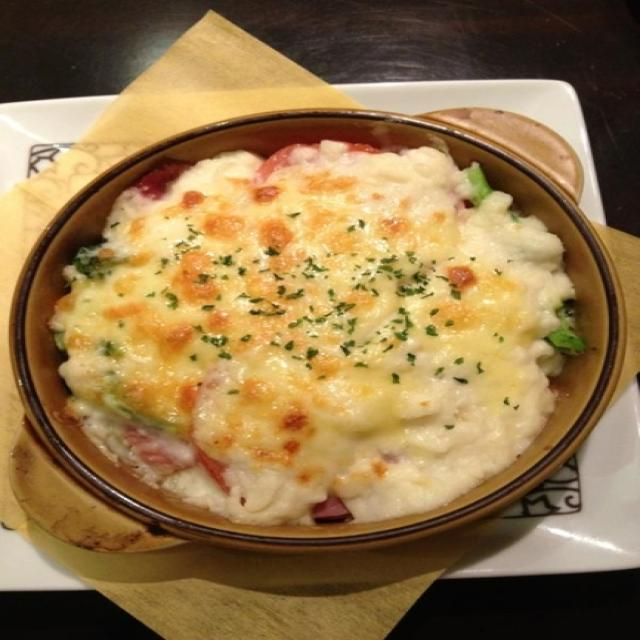米饭主食: (34, 130, 593, 530)
